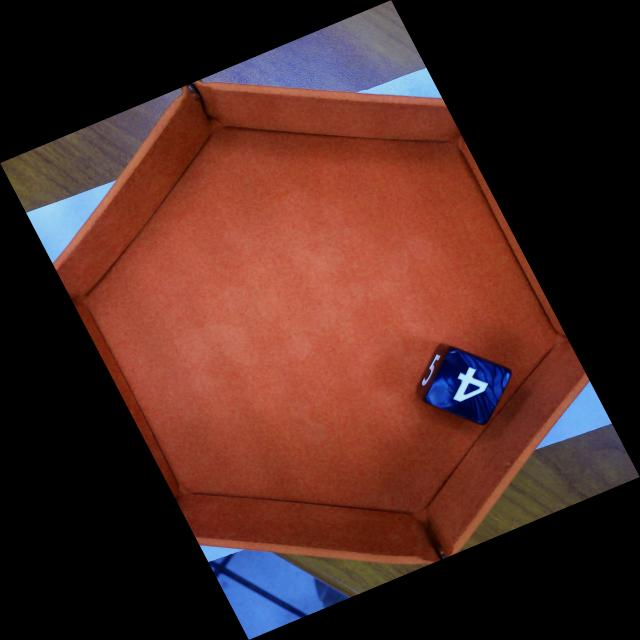dice: (424, 353, 516, 423)
